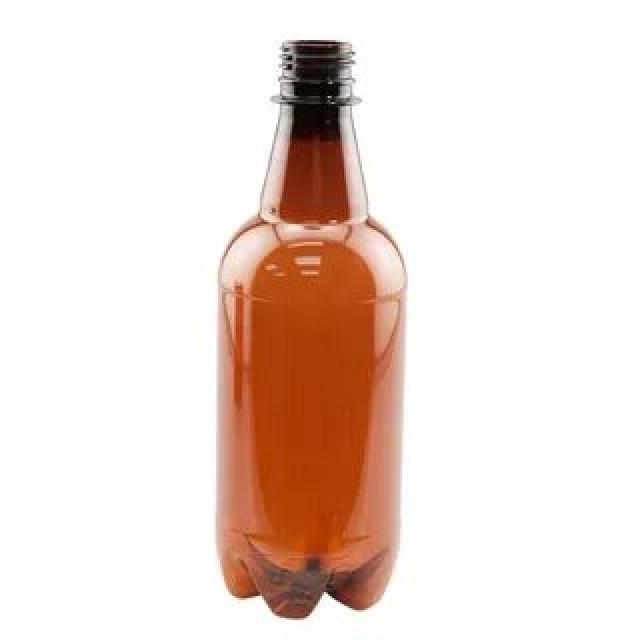brown: (212, 40, 405, 623)
